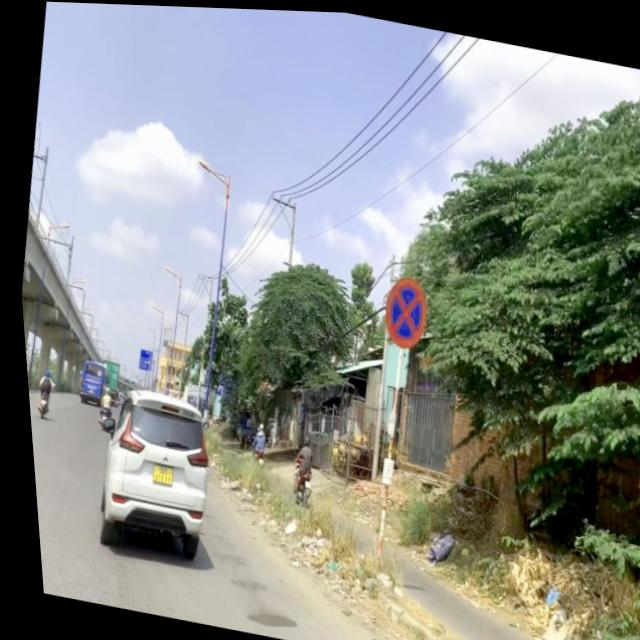Cam dung xe va do xe: (372, 268, 431, 353)
